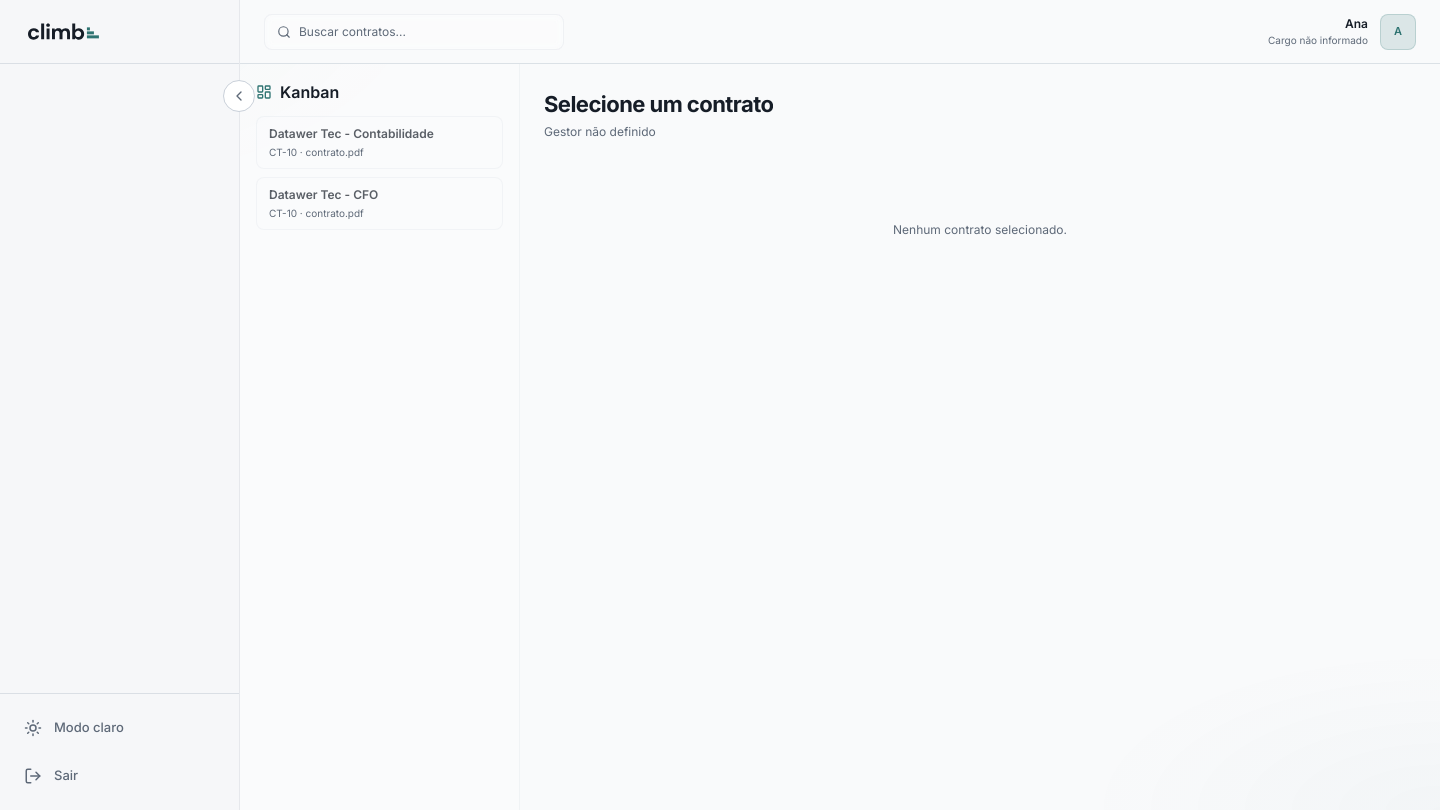
abertura do kanban do contrato › abre um quadro separado para cada serviço do mesmo contrato
Expected: the button "Datawer Tec - Contabilidade CT-10 · contrato.pdf" does not show "+ CFO", [256,116,503,169]
Click the button "Datawer Tec - CFO CT-10 · contrato.pdf" at point(380, 204), box [256,177,503,230]
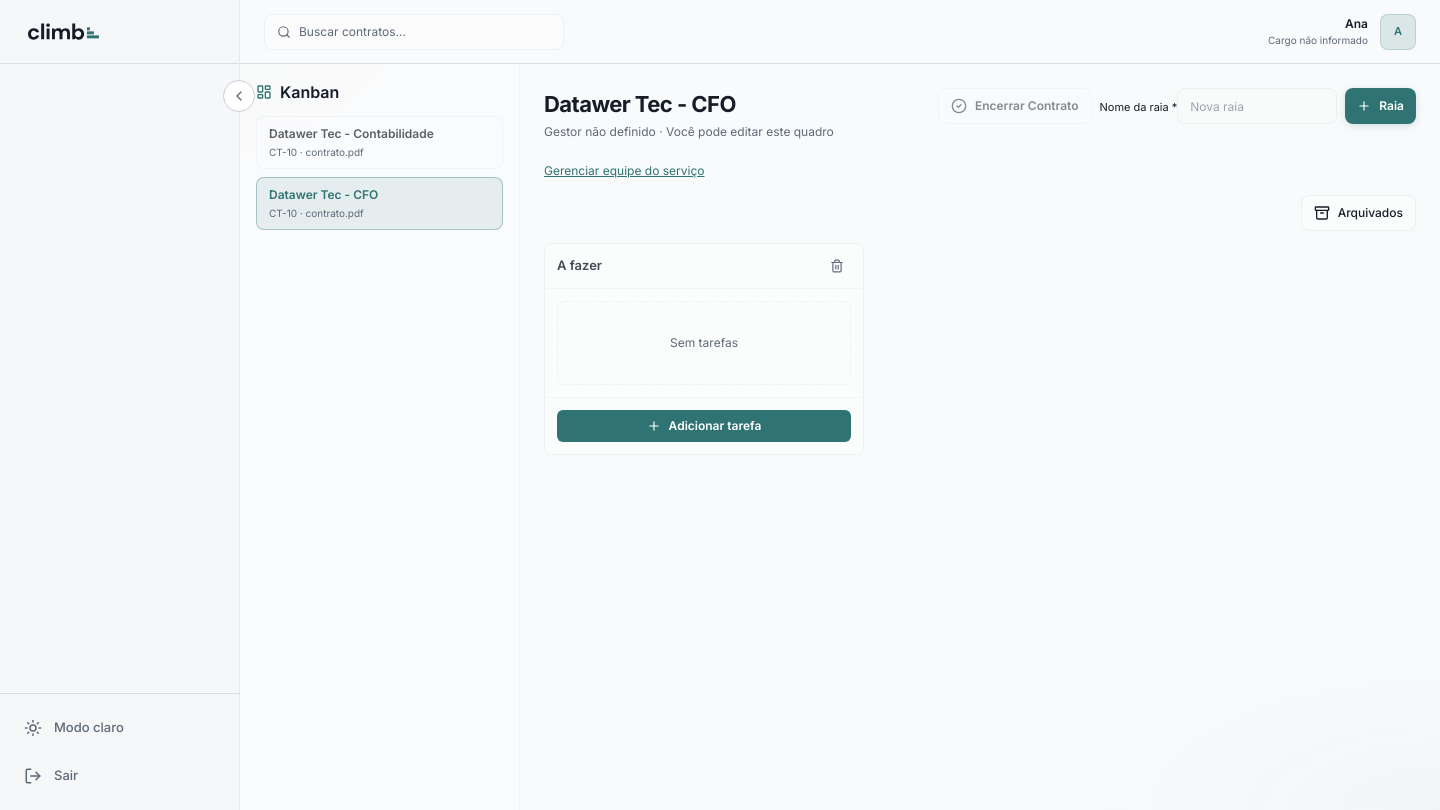
Expected: the heading "Datawer Tec - CFO" is shown, [544,91,736,117]
Click the button "Datawer Tec - Contabilidade CT-10 · contrato.pdf" at point(380, 142), box [256,116,503,169]
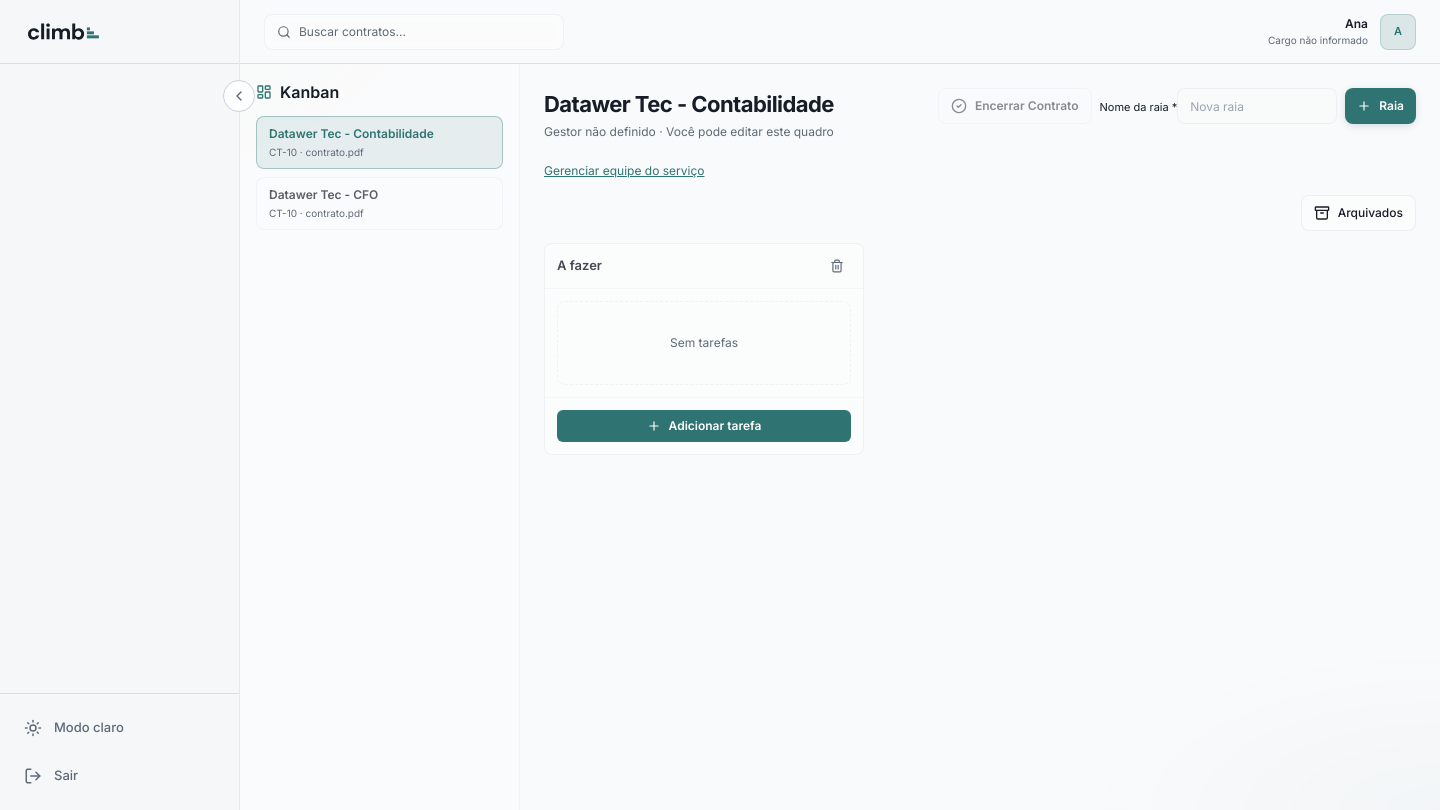
Expected: the heading "Datawer Tec - Contabilidade" is shown, [544,88,834,121]
